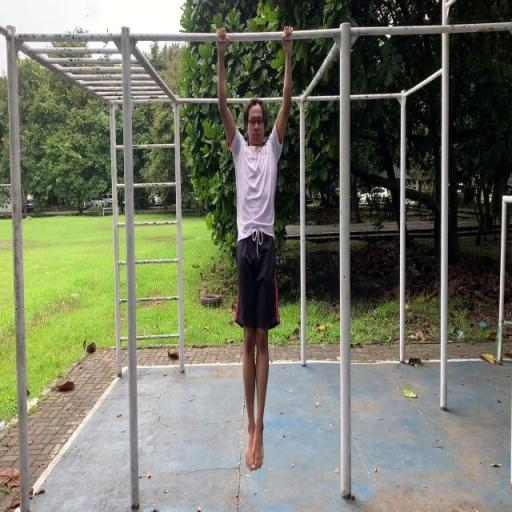Normal_BrenchPress: (214, 26, 296, 471)
